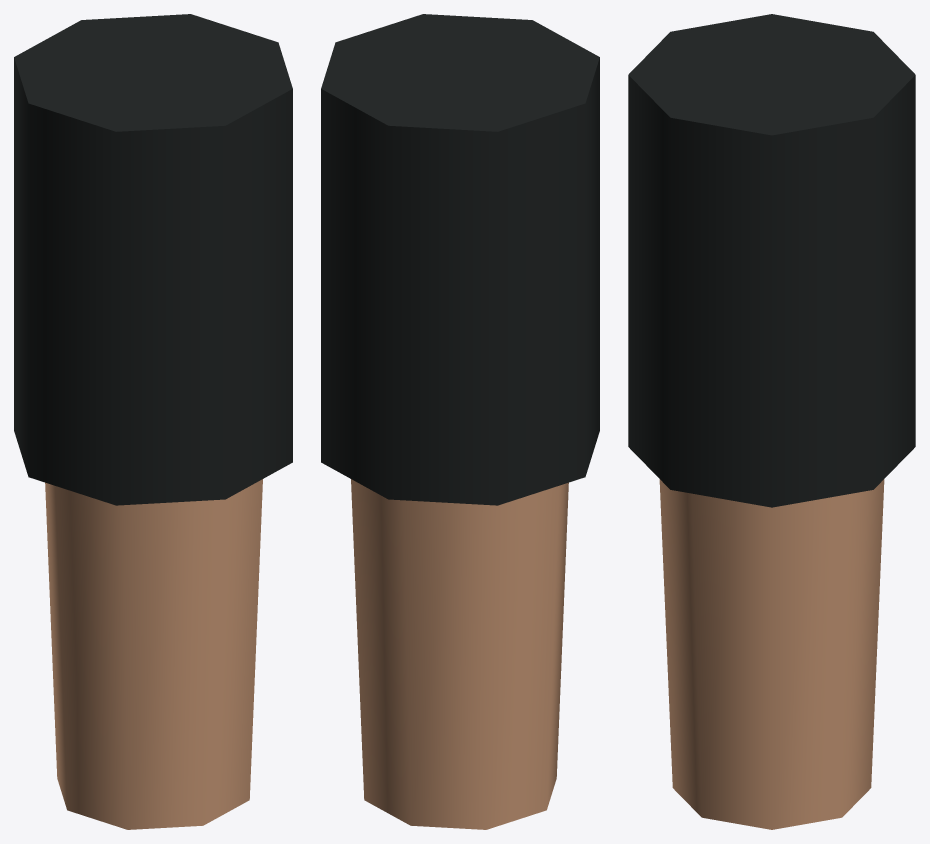
The model's file is Muslo.obj.
3 renders of one model, left to right at view 1: azimuth 30°, elevation 25°; view 2: azimuth 150°, elevation 25°; view 3: azimuth 270°, elevation 25°, orthographic.
Visible parts, largest first — view 1: Muslo; view 2: Muslo; view 3: Muslo.
Part boxes in pixels (x1,y1,x2,y2): Muslo: [14, 14, 292, 829]; Muslo: [321, 14, 599, 829]; Muslo: [628, 14, 915, 829].
Size of the model in its own units: 0.168 by 0.46 by 0.168.
1 material, 1 textured.
